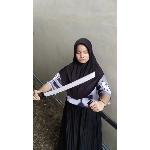Pedang: (34, 69, 98, 103)
